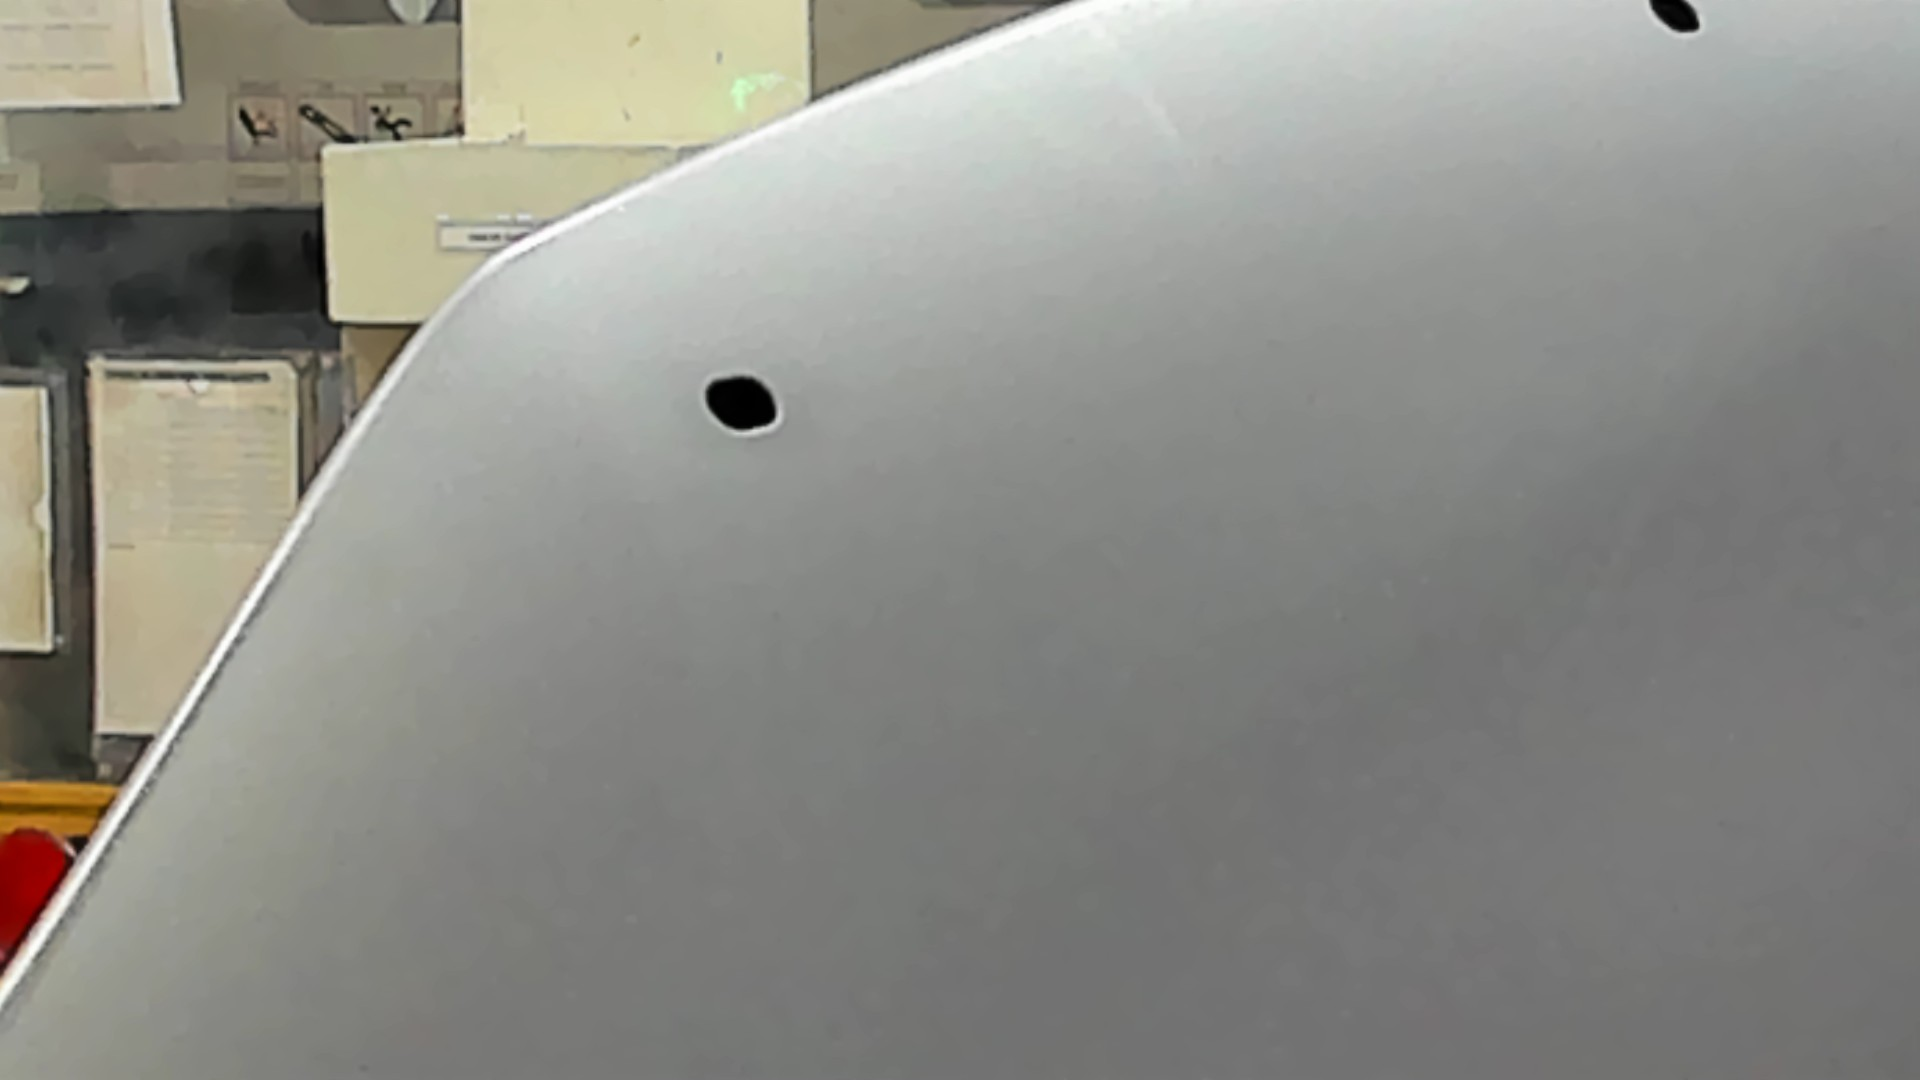chico: (696, 369, 798, 440), (1636, 1, 1720, 45)
